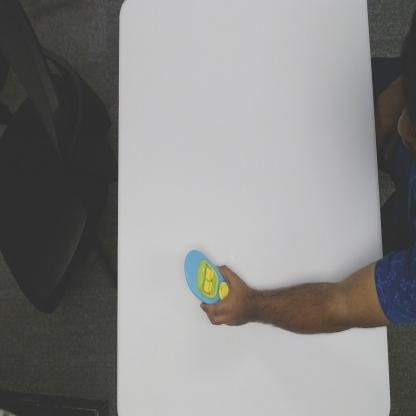Arm: (251, 262, 386, 338)
Boat: (183, 248, 231, 305)
Hand: (201, 263, 250, 329)
